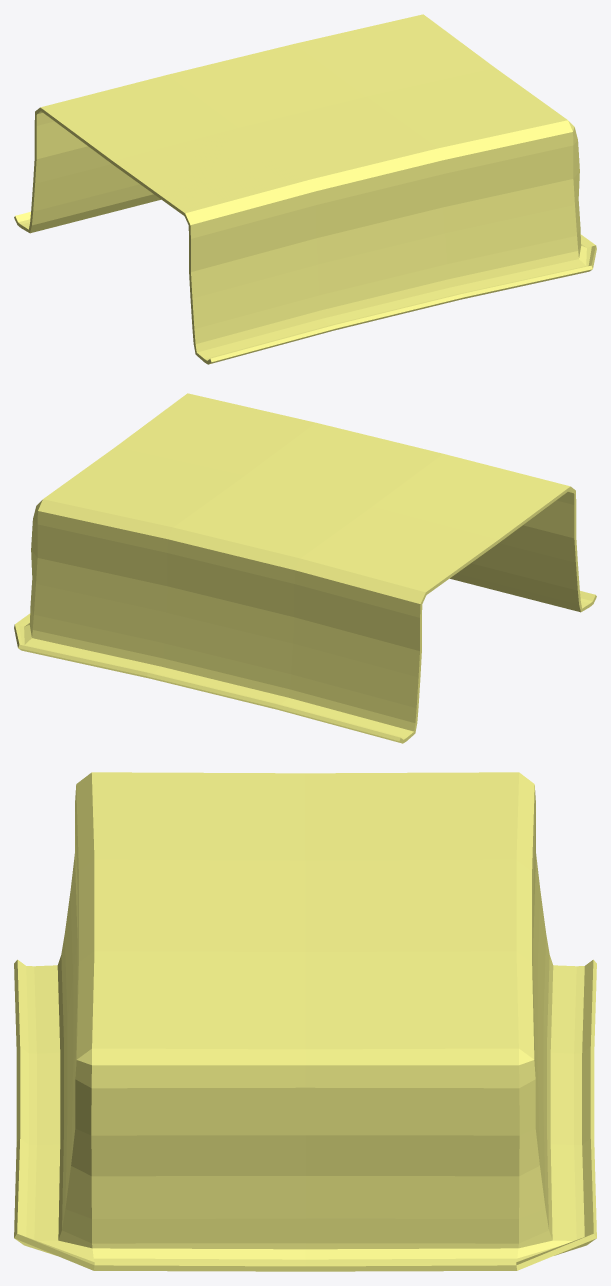
File: cobijaLOWPLOY.fbx
3 views of the same model, one above another, from view 1: azimuth 30°, elevation 25°; view 2: azimuth 150°, elevation 25°; view 3: azimuth 270°, elevation 25° (orthographic). The views are drawn at different scales.
Visible parts, largest first — view 1: Plane; view 2: Plane; view 3: Plane.
Boxes of the visible parts, x1,y1,x2,y2 form: Plane: (14,14,596,364); Plane: (14,393,596,743); Plane: (14,772,596,1271).
Size of the model in its own units: 2.44 by 0.7915 by 2.03.
